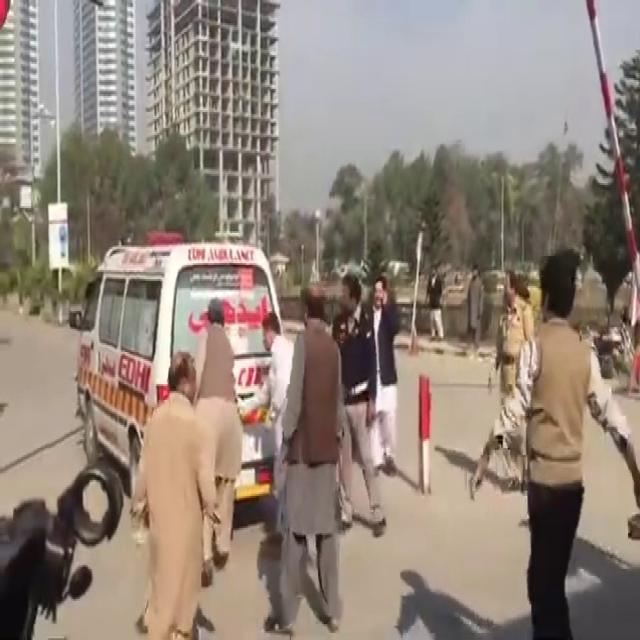ambulance: (64, 246, 306, 528)
